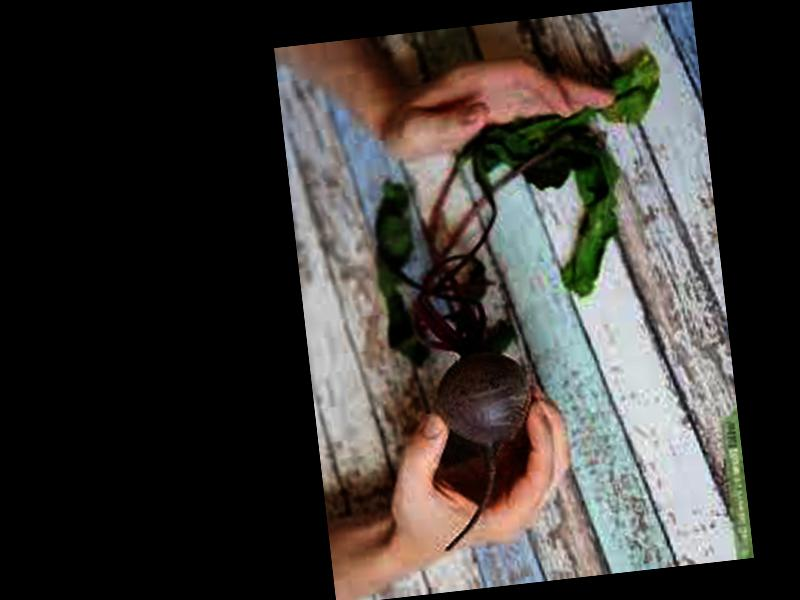Beet: (359, 51, 708, 555)
